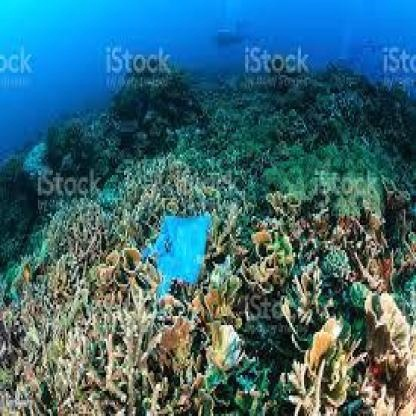pbag: (136, 204, 219, 307)
